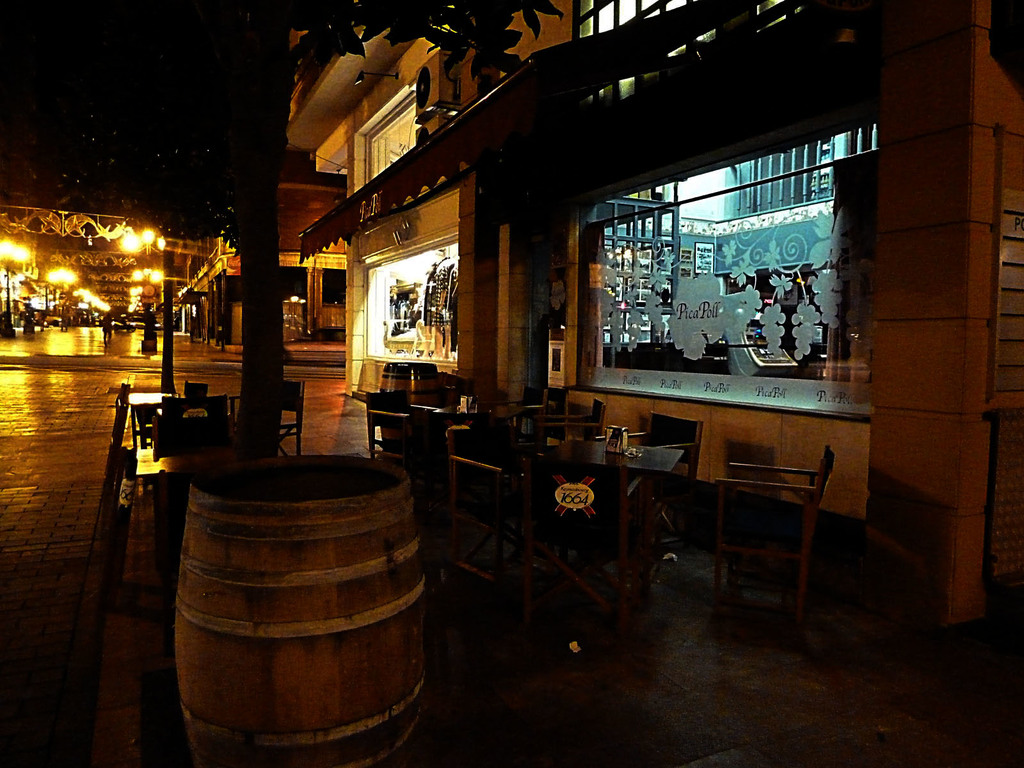Table: (529, 433, 687, 632), (347, 379, 548, 491)
